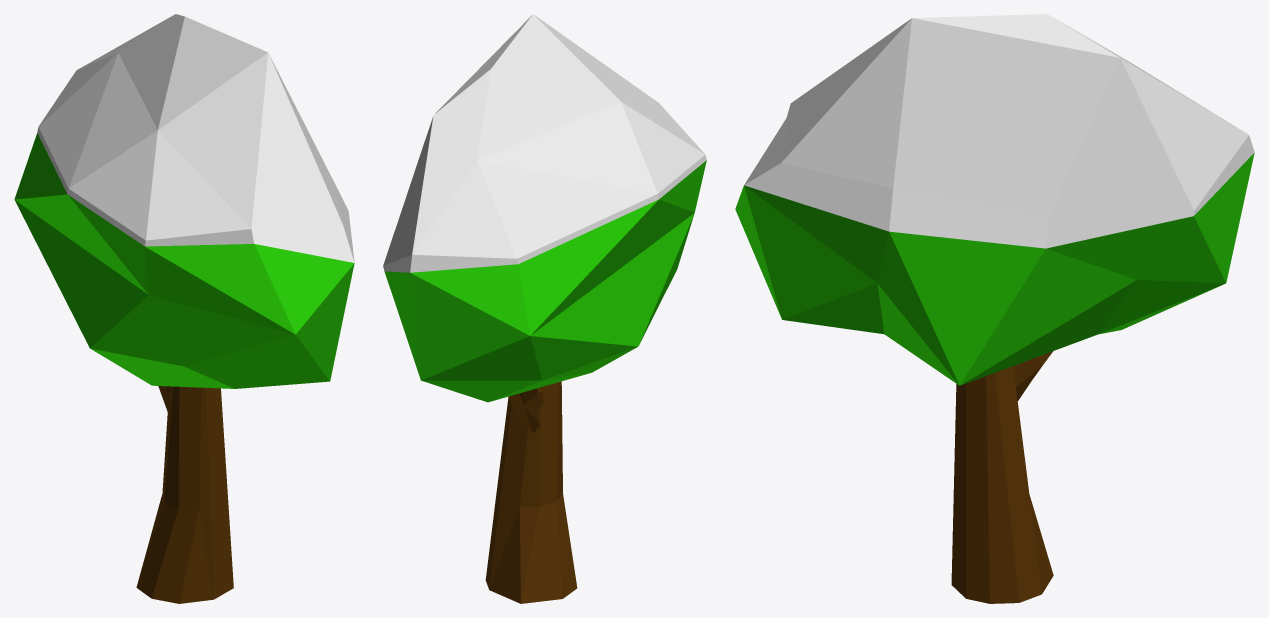
File: Bush#4_Snow.fbx
3 renders of one model, left to right at view 1: azimuth 30°, elevation 25°; view 2: azimuth 150°, elevation 25°; view 3: azimuth 270°, elevation 25°, orthographic. The views are drawn at different scales.
Parts seen in each view (by area): view 1: Bush#4_Snow; view 2: Bush#4_Snow; view 3: Bush#4_Snow.
Part boxes in pixels (x1,y1,x2,y2): Bush#4_Snow: (14, 14, 354, 603); Bush#4_Snow: (383, 14, 706, 603); Bush#4_Snow: (735, 14, 1254, 603).
Size of the model in its own units: 92.31 by 206 by 166.
